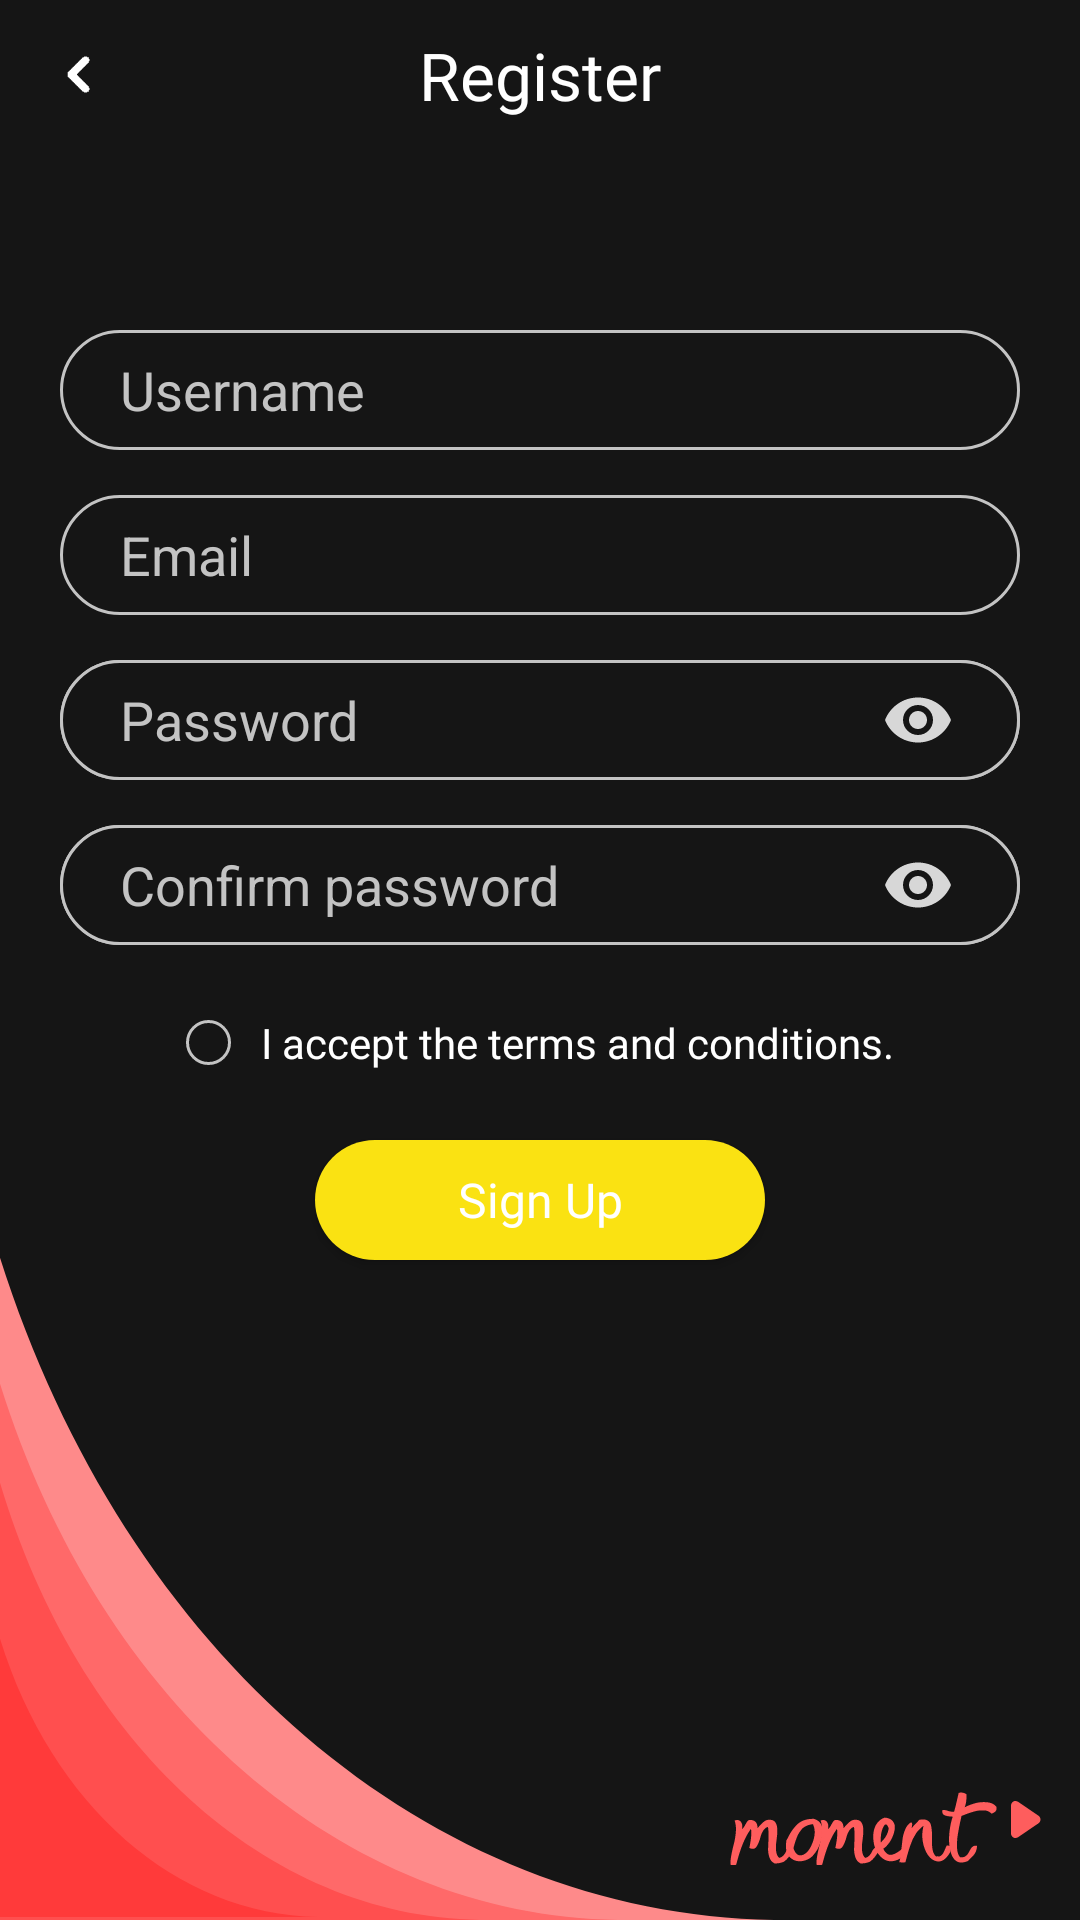

Locate icon controls on the screen. Image size 1080 x 1920, boxes as (x1, y1, x2, y2).
checkbox empty: (186, 1020, 231, 1065)
